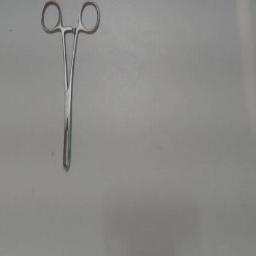Allis Tissue Forceps: (36, 0, 104, 180)
